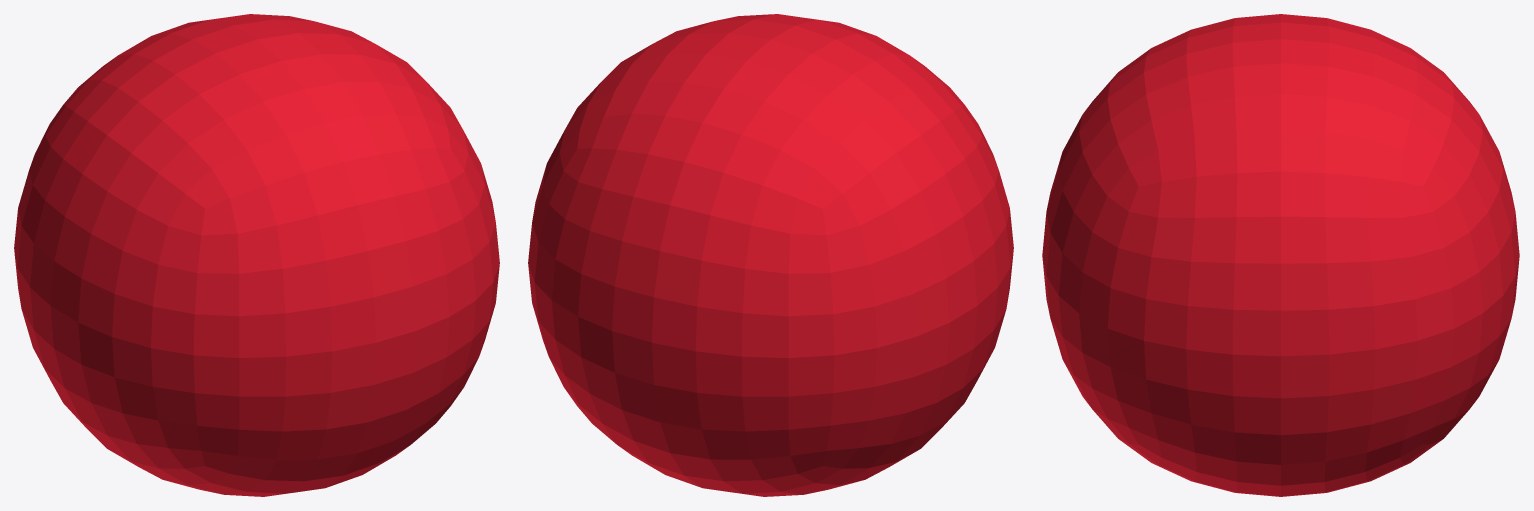
The model's file is animasyon.glb.
The picture shows the model from 3 angles, left to right: view 1: azimuth 30°, elevation 25°; view 2: azimuth 150°, elevation 25°; view 3: azimuth 270°, elevation 25°; orthographic projection.
Parts seen in each view (by area): view 1: Cube; view 2: Cube; view 3: Cube.
Part boxes in pixels (<box>): Cube: <box>14,14,499,496</box>; Cube: <box>528,14,1013,496</box>; Cube: <box>1042,14,1519,496</box>.
Bounding box in the file's own units: 1.68 × 1.68 × 1.68.
